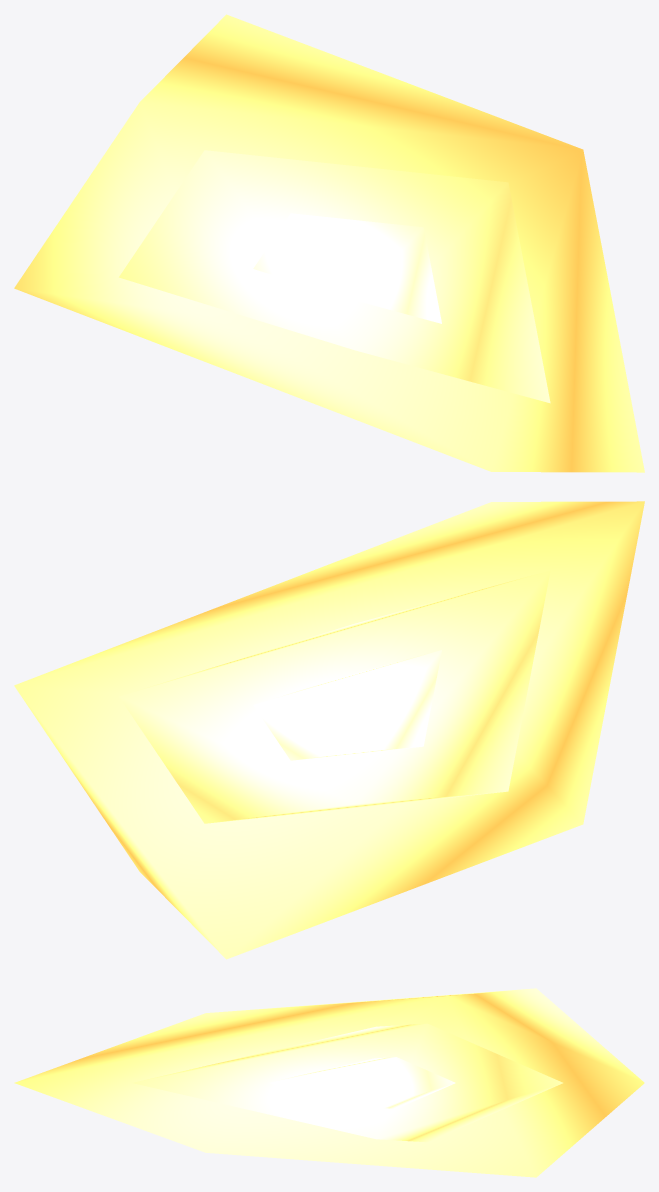
3 views of the same model, one above another, from view 1: azimuth 30°, elevation 25°; view 2: azimuth 150°, elevation 25°; view 3: azimuth 270°, elevation 25° (orthographic). The views are drawn at different scales.
Visible parts, largest first — view 1: a, c, b; view 2: a, c, b; view 3: a, c, b.
Boxes of the visible parts, left/top/right/bottom form: a: left=14, top=14, right=644, bottom=472; c: left=119, top=150, right=550, bottom=403; b: left=253, top=213, right=441, bottom=323; a: left=14, top=501, right=644, bottom=959; c: left=119, top=570, right=550, bottom=823; b: left=253, top=650, right=441, bottom=760; a: left=14, top=988, right=644, bottom=1177; c: left=132, top=1023, right=562, bottom=1142; b: left=268, top=1057, right=455, bottom=1108.
Size of the model in its own units: 1.5 by 0.7644 by 2.31.
